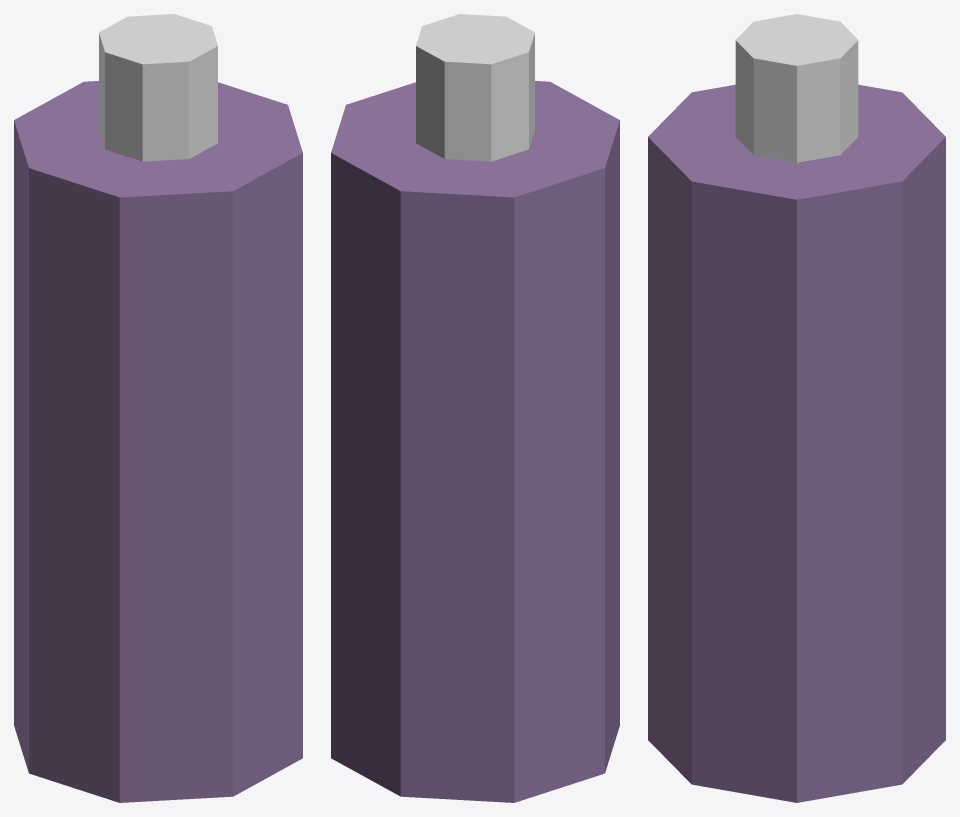
Rendered from Bathroom2_Bottle2.fbx.
The picture shows the model from 3 angles, left to right: view 1: azimuth 30°, elevation 25°; view 2: azimuth 150°, elevation 25°; view 3: azimuth 270°, elevation 25°; orthographic projection.
Visible parts, largest first — view 1: Bathroom2_Bottle2; view 2: Bathroom2_Bottle2; view 3: Bathroom2_Bottle2.
Boxes of the visible parts, x1,y1,x2,y2 form: Bathroom2_Bottle2: [14, 14, 302, 802]; Bathroom2_Bottle2: [331, 14, 619, 802]; Bathroom2_Bottle2: [648, 14, 945, 802].
Bounding box in the file's own units: 12.72 × 12.72 × 32.96.
